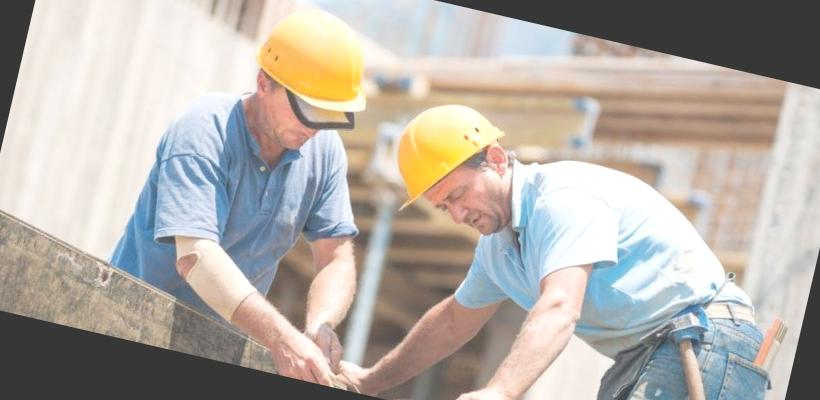helmet: (380, 90, 512, 238), (239, 0, 388, 128)
no_vest: (113, 86, 382, 386), (456, 141, 725, 400)
person: (343, 90, 786, 400), (104, 0, 422, 389)
